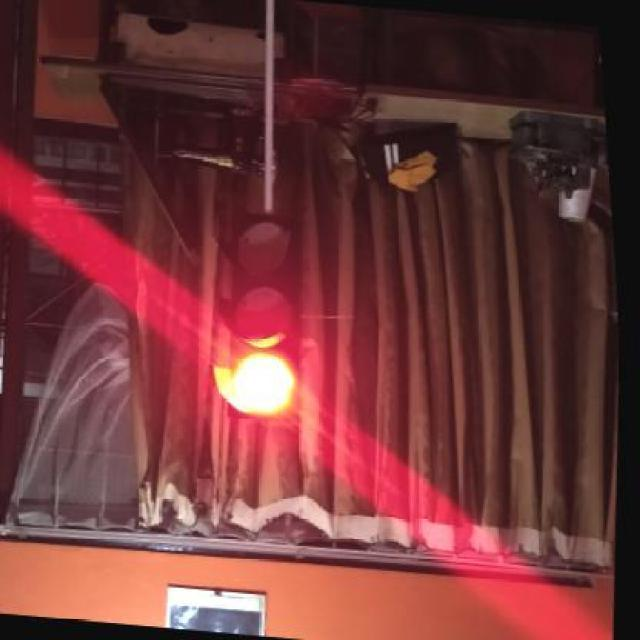red_light: (212, 211, 302, 420)
